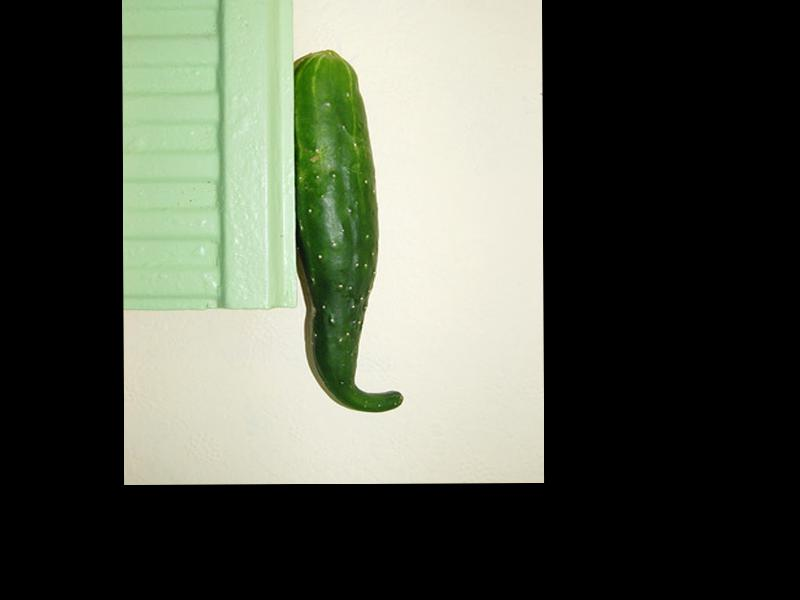Cucumber: (293, 50, 402, 413)
